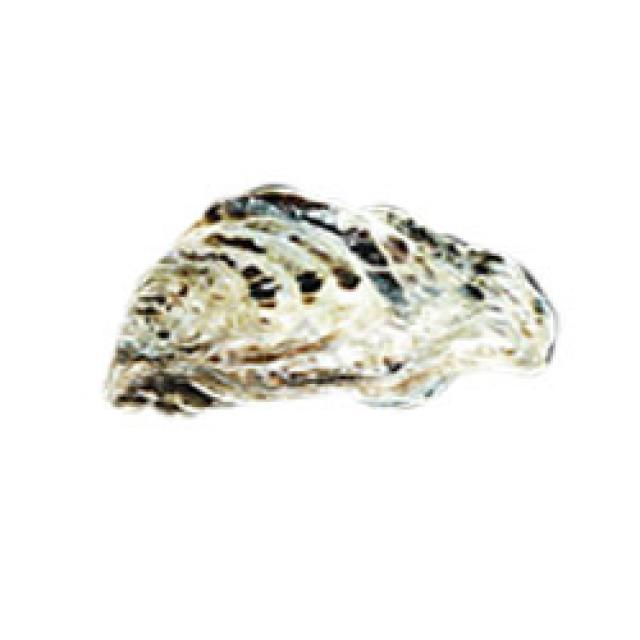Oyster- Indeterminate: (96, 177, 564, 424)
